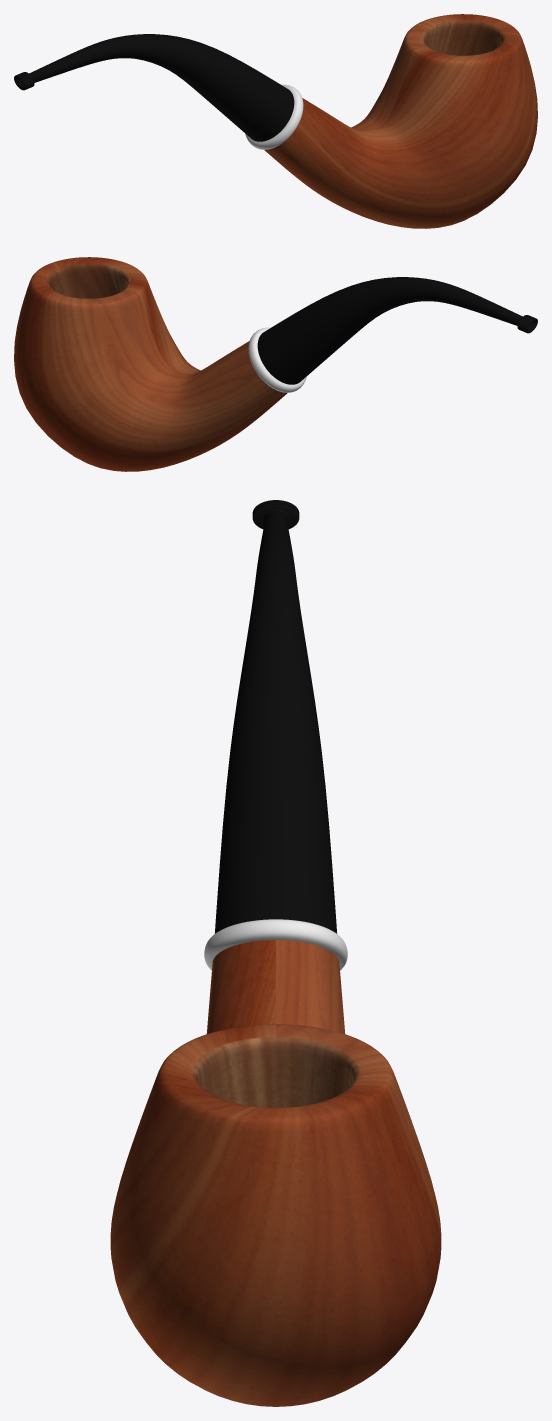
Rendered from Pipe.fbx.
3 renders of one model, top to bottom at view 1: azimuth 30°, elevation 25°; view 2: azimuth 150°, elevation 25°; view 3: azimuth 270°, elevation 25°, orthographic. The views are drawn at different scales.
Parts seen in each view (by area): view 1: Pipe; view 2: Pipe; view 3: Pipe.
Boxes of the visible parts, x1=… form: Pipe: x1=14, y1=14, x2=537, y2=228; Pipe: x1=14, y1=257, x2=537, y2=471; Pipe: x1=110, y1=500, x2=441, y2=1406.
Bounding box in the file's own units: 312 × 152 × 87.86.
1 material, 1 textured.
